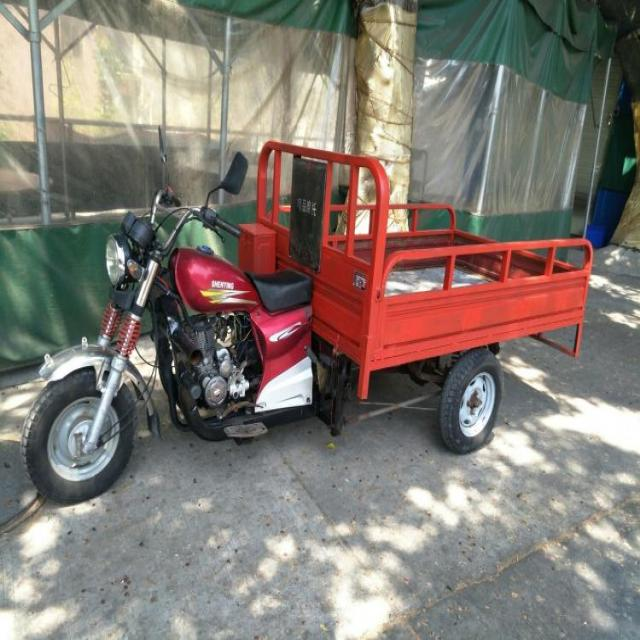tricycle: (17, 126, 593, 504)
